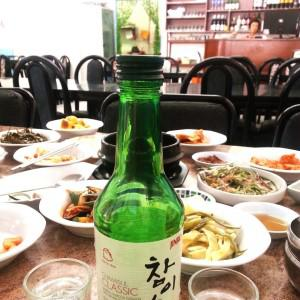soju: (86, 54, 188, 300)
